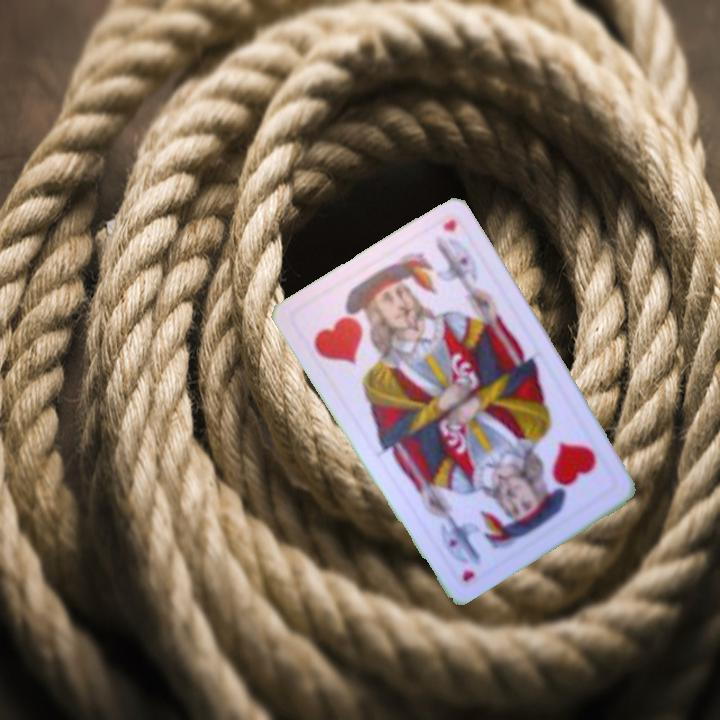h_j.png: (494, 414, 622, 538), (289, 264, 417, 387)
